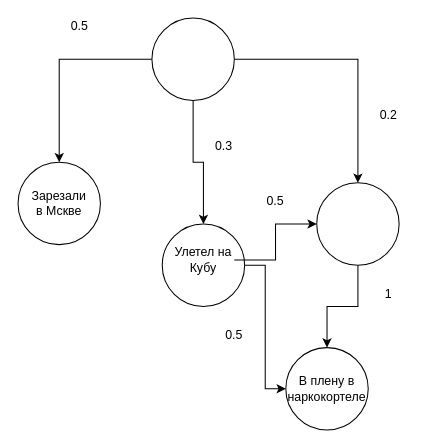
Some shapes in this 438 by 448 pixel diagram are drawn without their labels. The centre of each missing label's shape, as x and y in pixels:
Нелегально пробрался в США: point (357, 223)
пропал безвести: point (192, 58)
